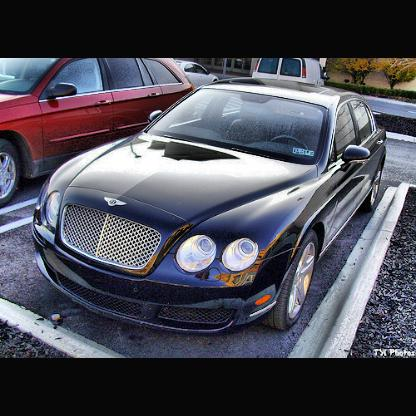Bentley Continental Flying Spur Sedan 2007: (32, 76, 393, 338)
